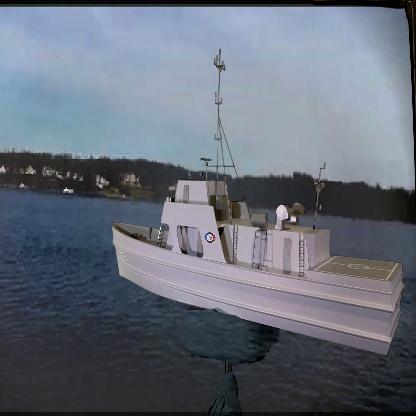YP689: (111, 43, 405, 355)
